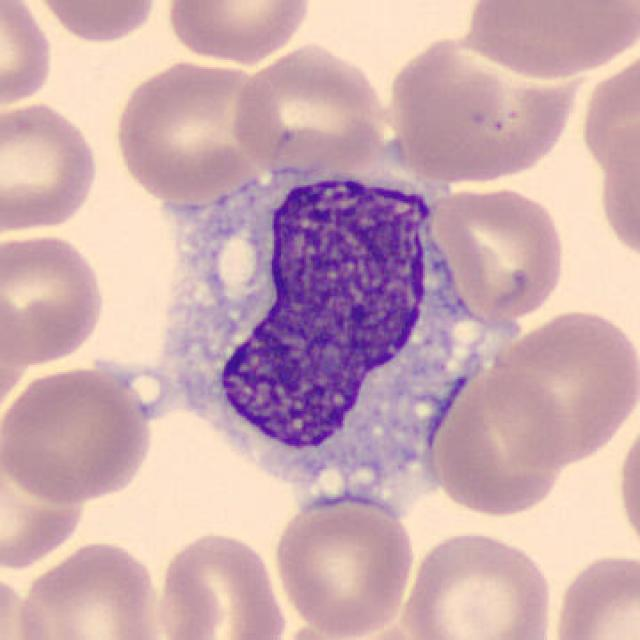Monocyte: (135, 144, 512, 522)
RBC: (382, 30, 583, 187), (108, 56, 281, 205), (489, 303, 638, 467), (428, 360, 574, 518), (1, 363, 154, 506), (229, 41, 393, 172), (423, 182, 571, 324), (270, 494, 418, 636), (398, 527, 556, 640), (9, 537, 169, 640), (153, 527, 288, 640), (0, 229, 108, 366), (460, 0, 636, 83), (0, 99, 103, 236), (0, 433, 82, 575), (164, 0, 316, 67), (547, 546, 638, 640), (582, 58, 640, 192), (0, 0, 57, 111), (27, 0, 164, 46), (595, 123, 640, 258), (611, 407, 640, 562), (0, 567, 53, 640), (267, 617, 423, 640)
